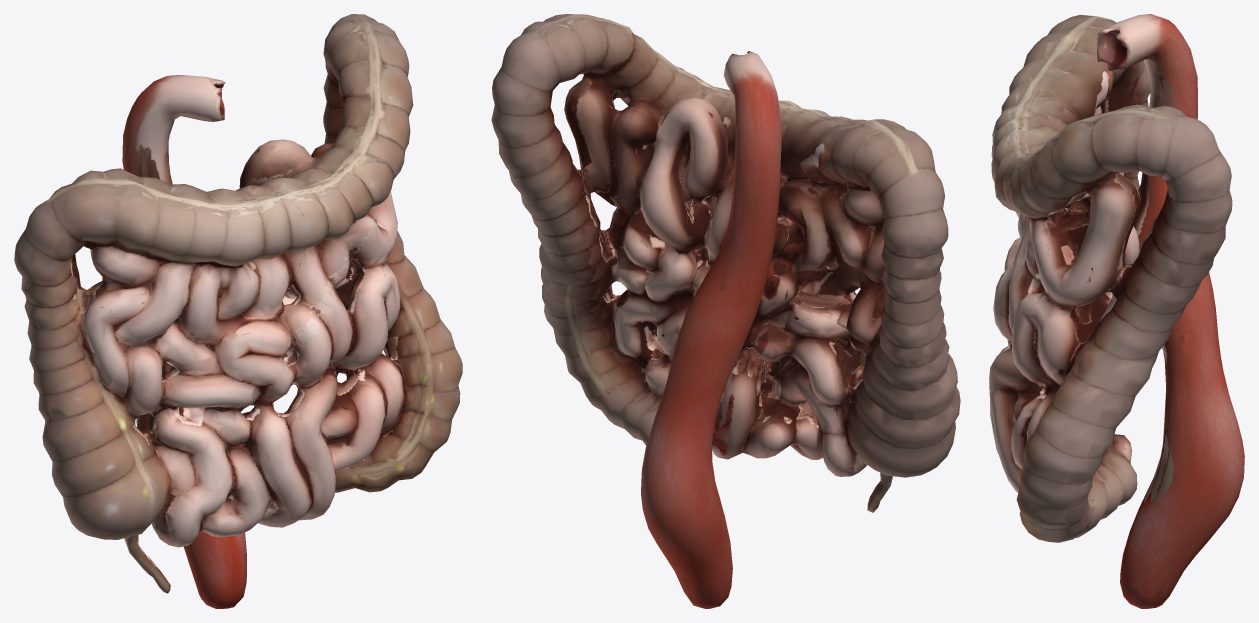
Rendered from intestines.fbx.
3 renders of one model, left to right at view 1: azimuth 30°, elevation 25°; view 2: azimuth 150°, elevation 25°; view 3: azimuth 270°, elevation 25°, orthographic. The views are drawn at different scales.
Parts seen in each view (by area): view 1: intestines_lp; view 2: intestines_lp; view 3: intestines_lp.
Boxes of the visible parts, x1,y1,x2,y2 form: intestines_lp: [14, 14, 462, 608]; intestines_lp: [491, 14, 960, 608]; intestines_lp: [989, 14, 1244, 608].
Bounding box in the file's own units: 0.7891 × 0.9906 × 0.4029.
